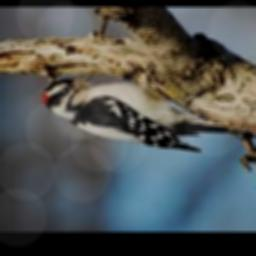Woodpecker: (43, 72, 242, 152)
